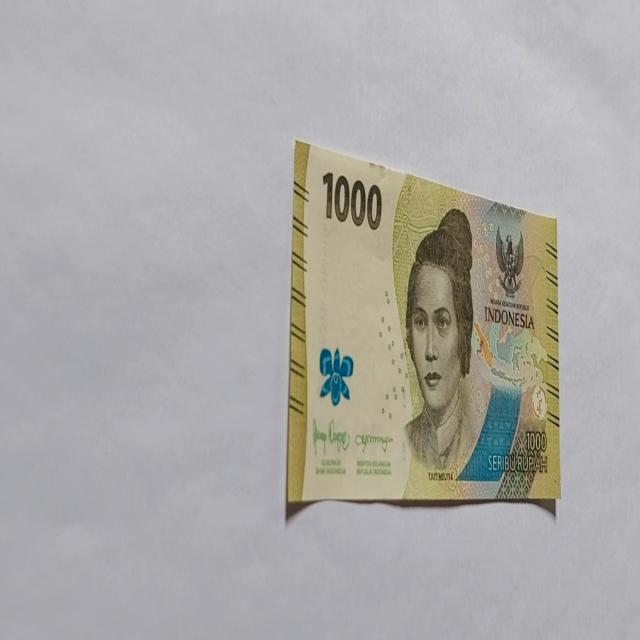seribu rupiah kertas: (286, 138, 560, 514)
